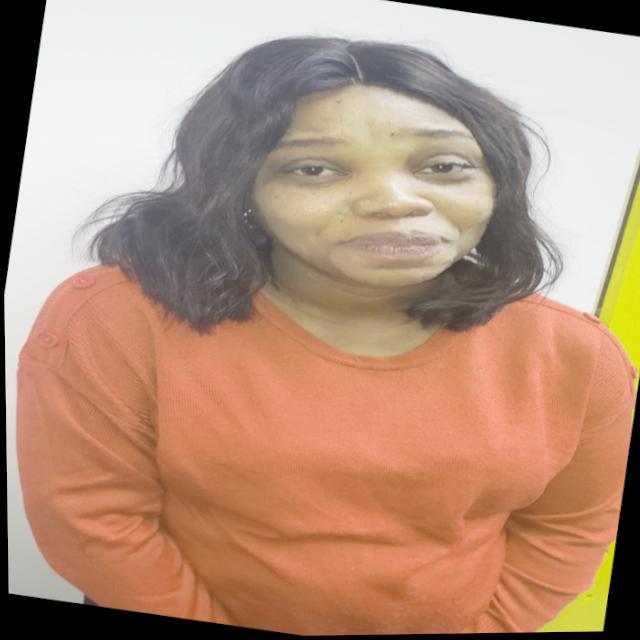sad: (212, 53, 536, 319)
